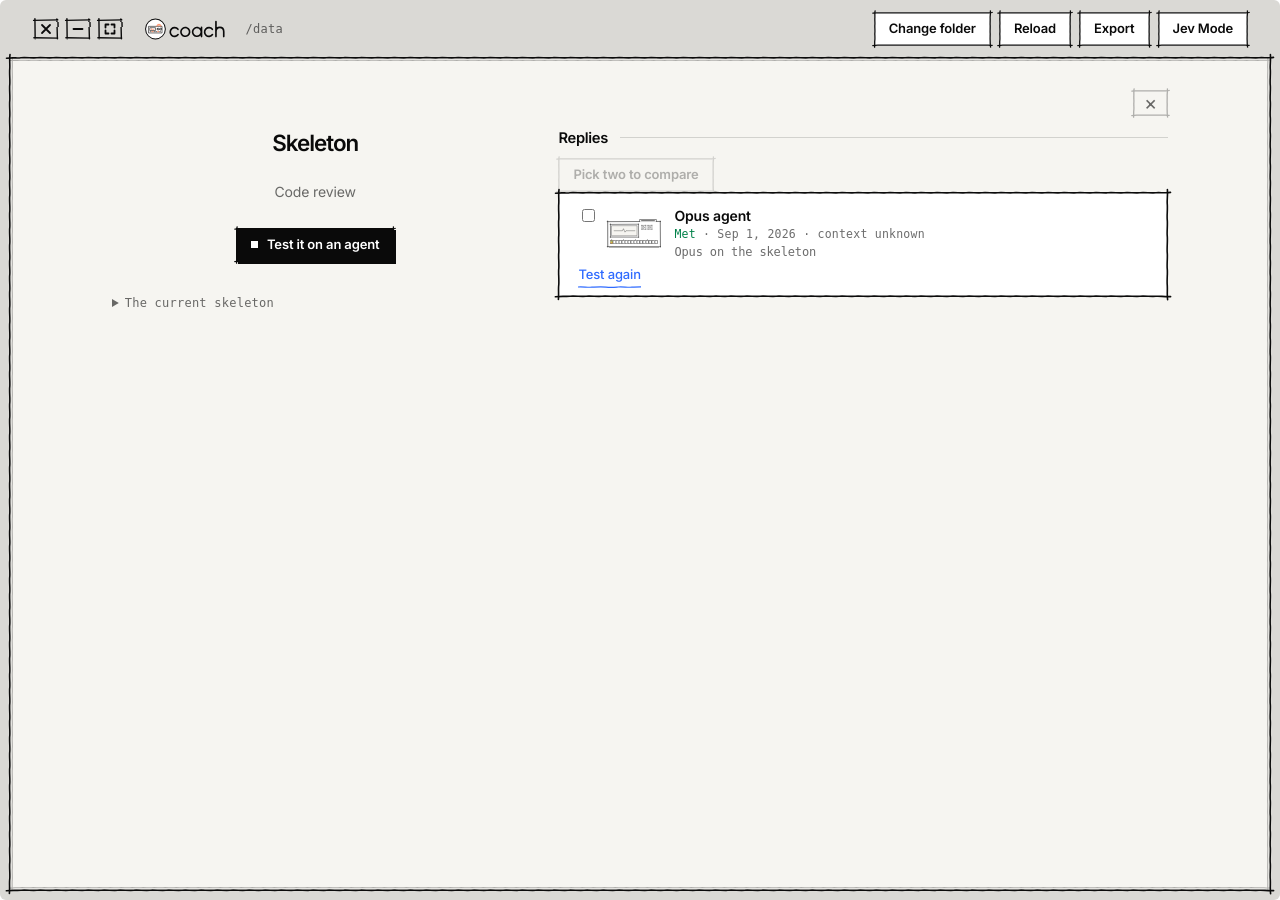
Test: HandoffDetail › Covers R16. A take opened on a handoff that is not its agent's latest closes back to that handoff, its row lit and focused, picks kept
Check: the heading "Skeleton" is shown, box [272,130,358,155]
Click the checkbox named "Pick Opus agent" at [589, 215], box [582,209,595,222]
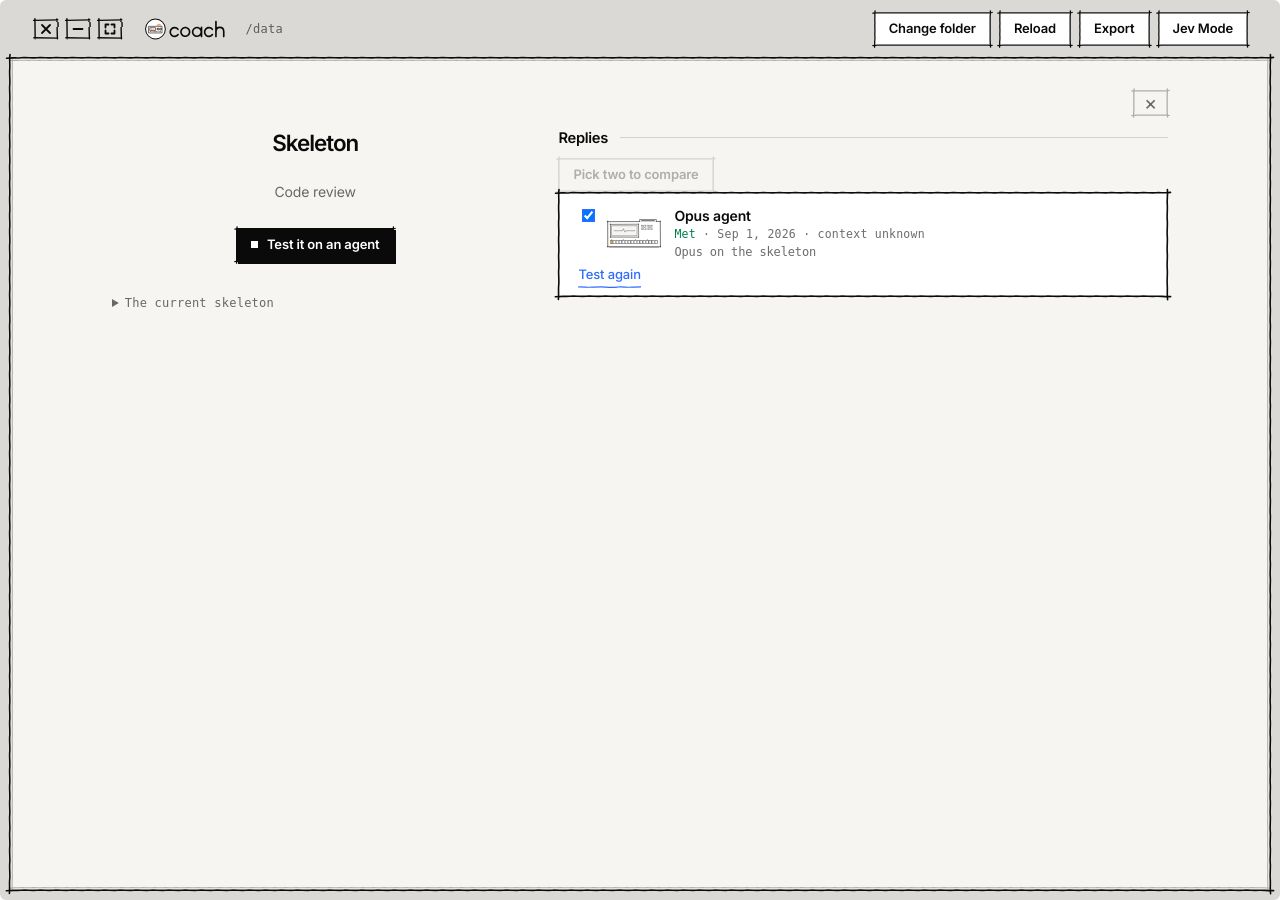
Click the button with class "take-head" at [879, 233], box [606,201,1151,265]
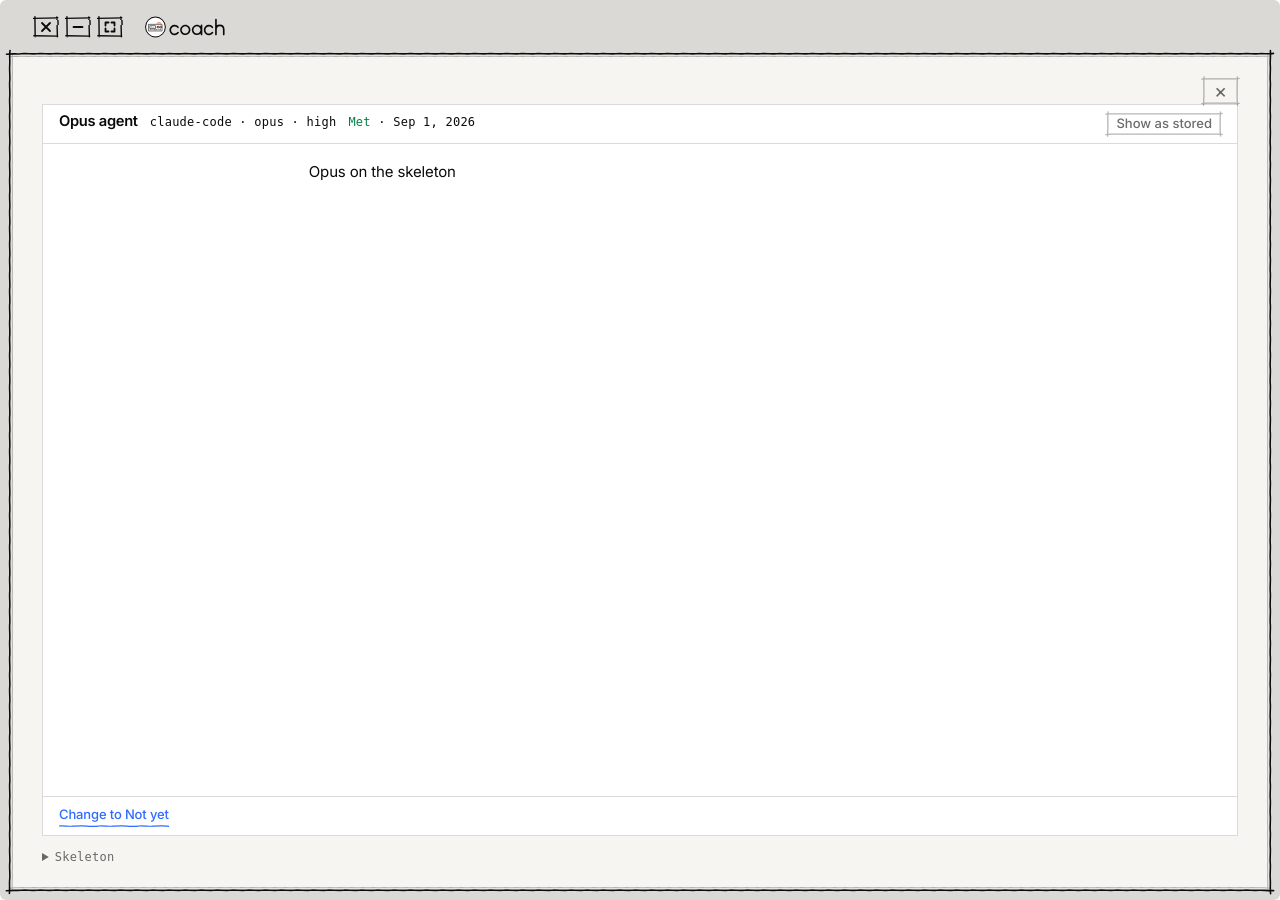
Check: the heading "Opus agent" is shown, box [59,113,138,130]
Check: the text "Opus on the skeleton" is shown, box [309,162,456,180]
Press Escape
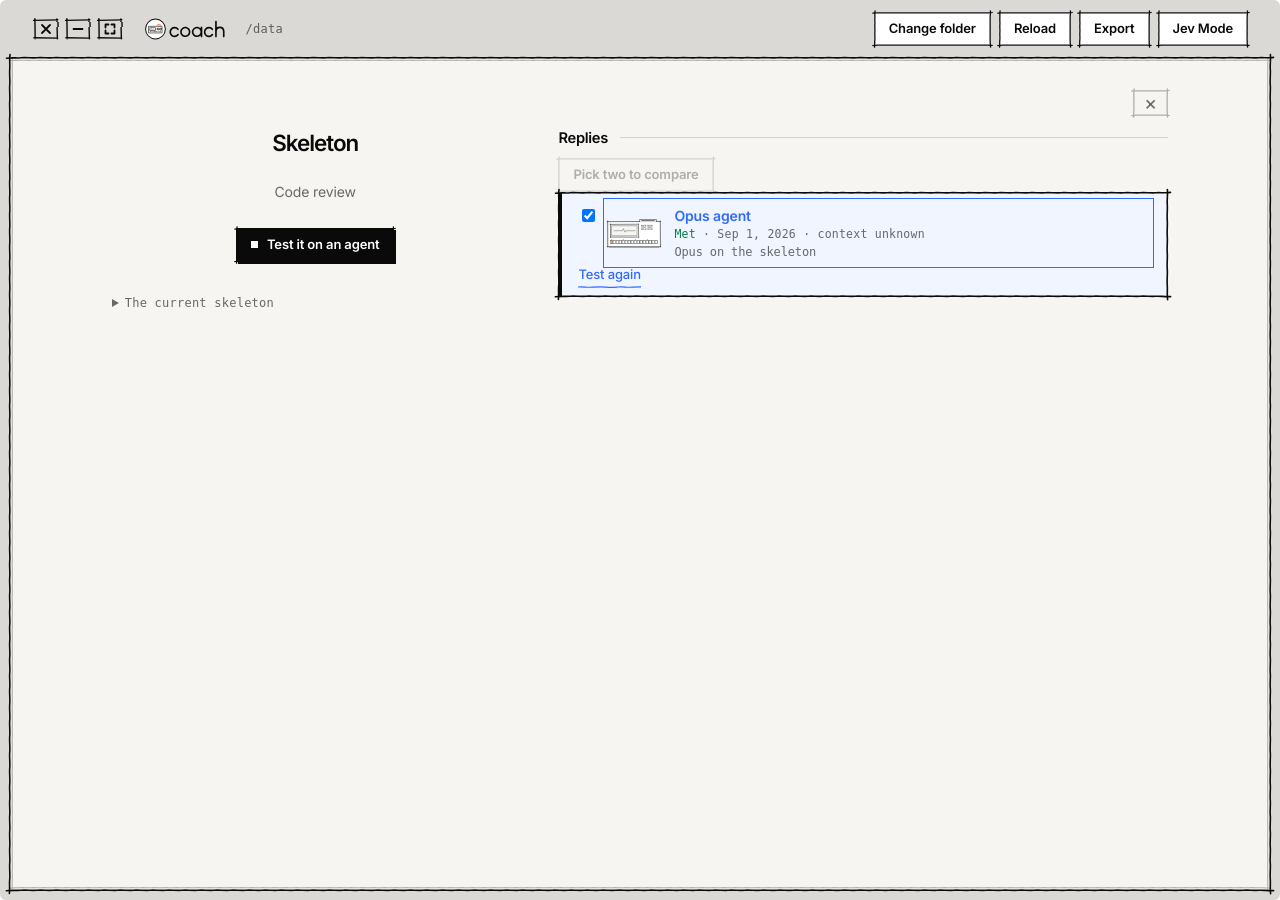
Check: the heading "Skeleton" is shown, box [272,130,358,155]
Check: the checkbox named "Pick Opus agent" is checked, box [582,209,595,222]
